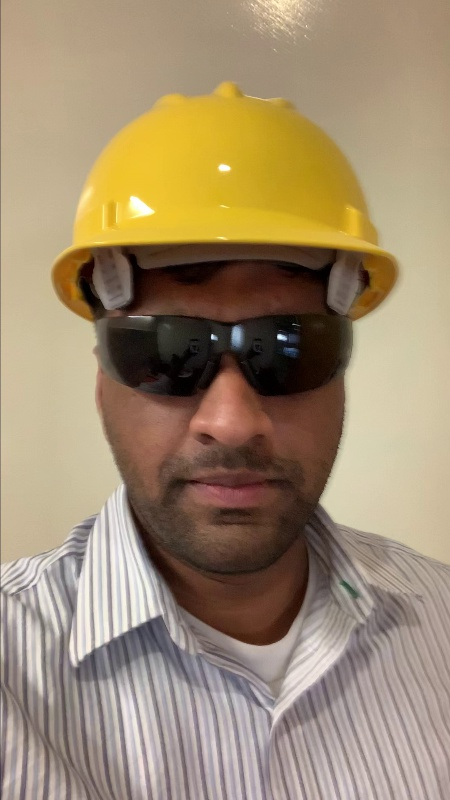glasses: (92, 308, 359, 390)
helmet: (53, 76, 401, 260)
